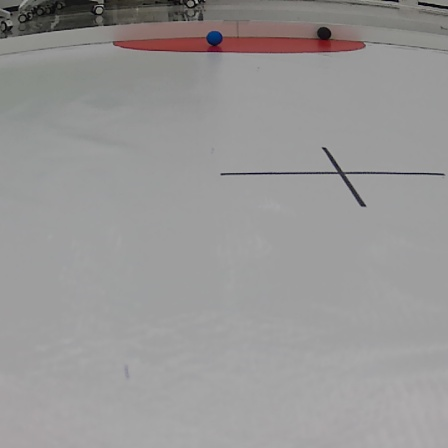black: (315, 27, 333, 42)
blue: (205, 28, 226, 46)
red_base: (110, 36, 375, 56)
